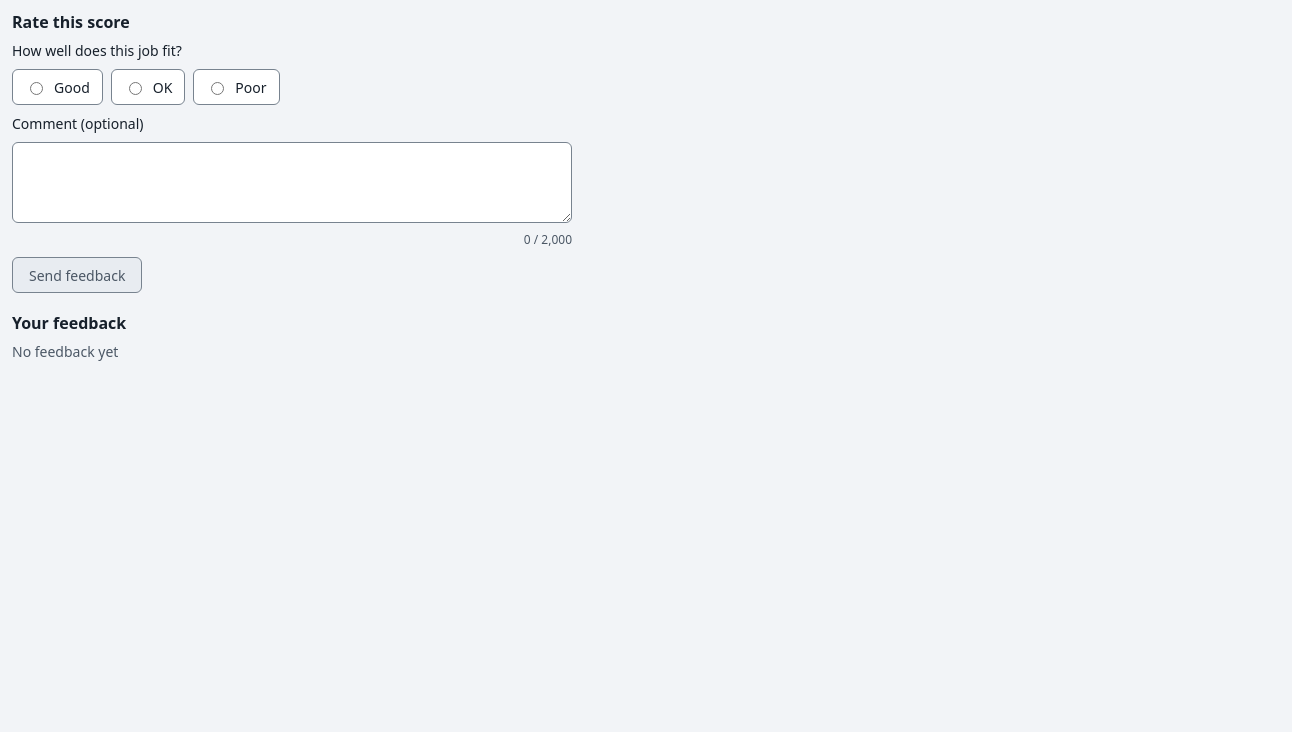
FeedbackTab › a label posts a wrong_score with its comment, and invalidates the detail
This screenshot has width=1292, height=732.
Click the radio button labelled "Poor": (218, 88) [211, 82, 224, 95]
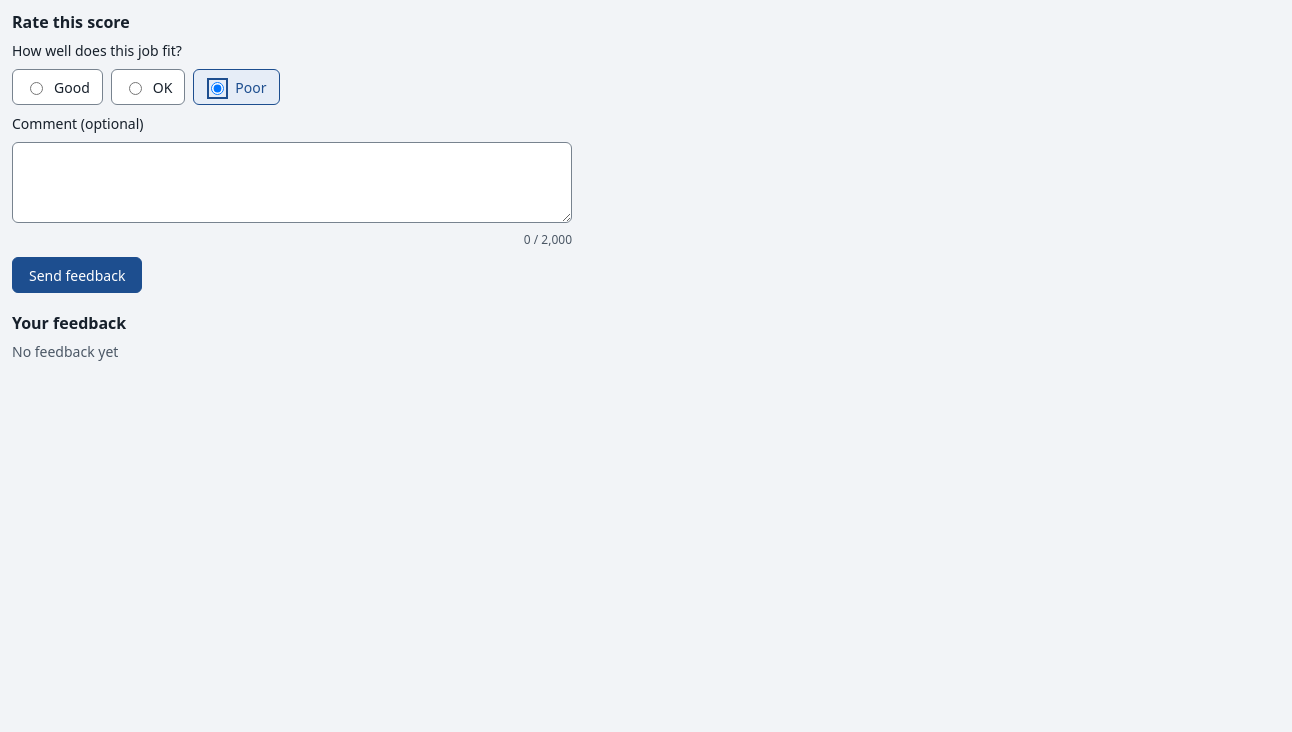
In the text box labelled "Comment (optional)": (292, 182) [12, 142, 572, 223], type "Too high for me"
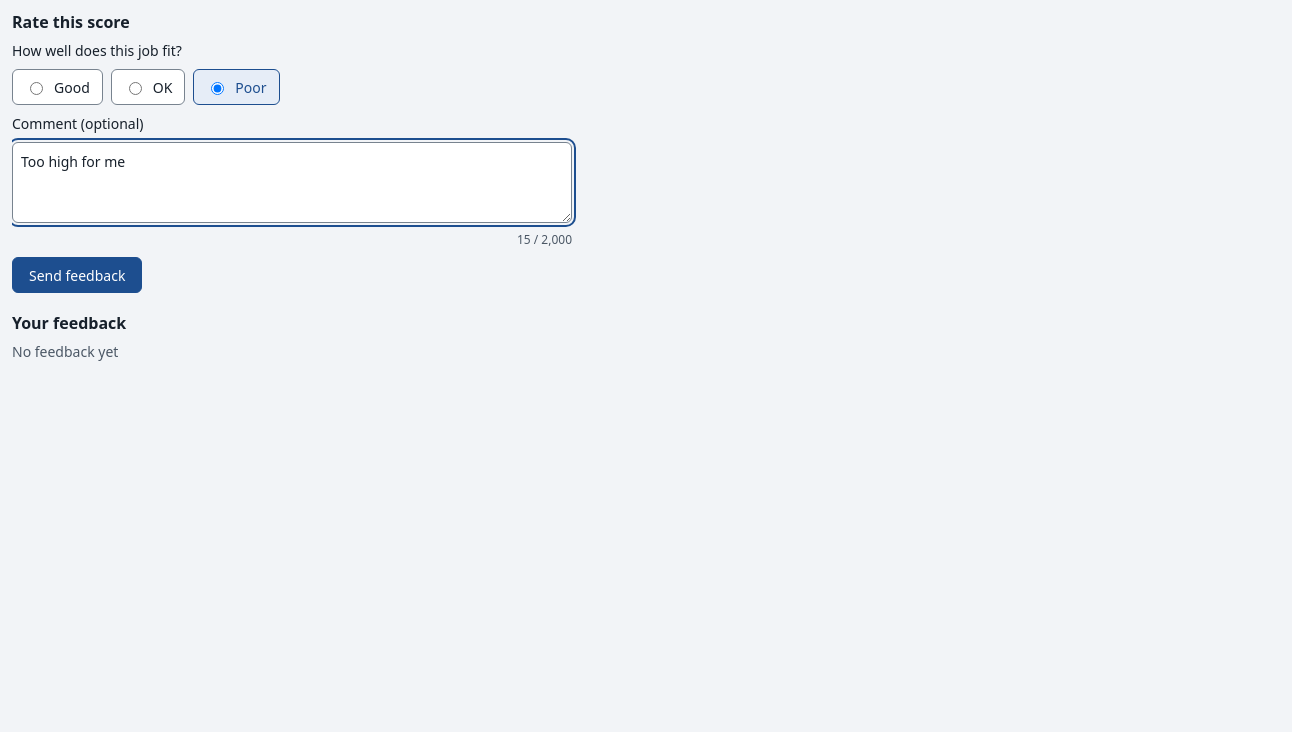
Click the button "Send feedback": (77, 275) [12, 257, 142, 293]
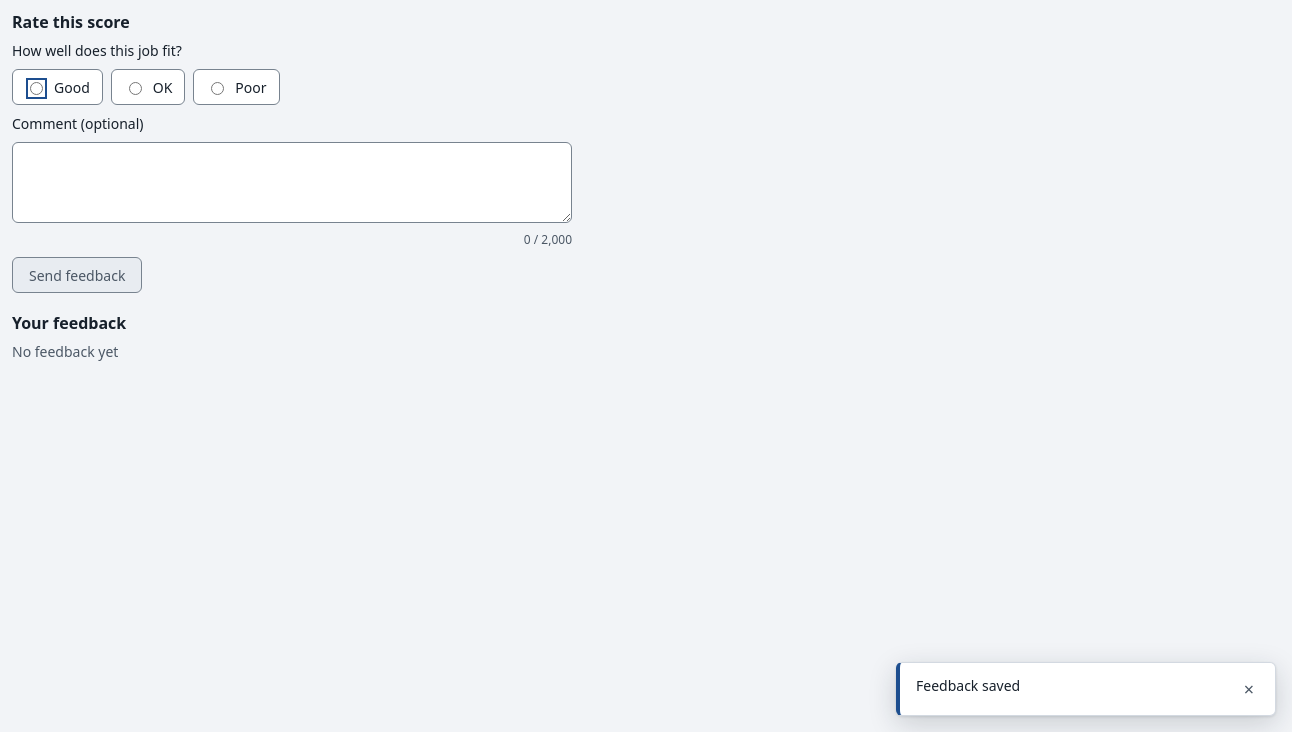
Expected: the text "Feedback saved" is shown, [916, 676, 1020, 695]
Expected: the text box labelled "Comment (optional)" is empty, [12, 142, 572, 223]
